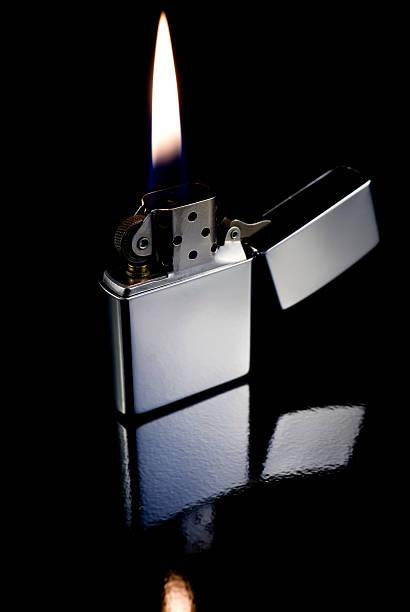Fire: (146, 10, 193, 175)
